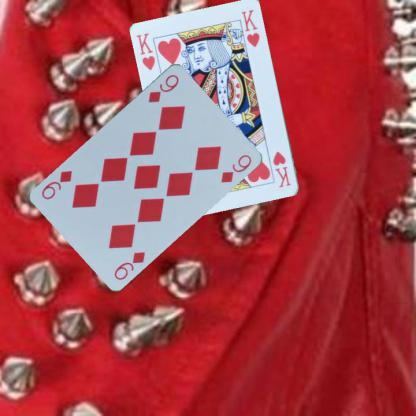9d: (112, 248, 146, 282), (146, 71, 180, 104)
Kh: (134, 30, 157, 72), (270, 149, 292, 189)
